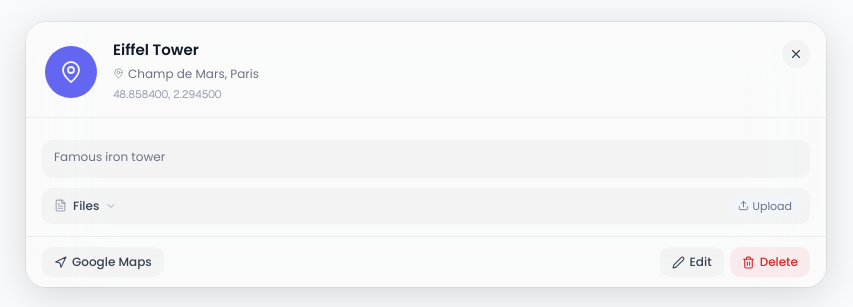
PlaceInspector › FE-PLANNER-INSPECTOR-019: double-clicking name enters edit mode
Double-click the text "Eiffel Tower" at [156, 50], box [113, 40, 199, 60]
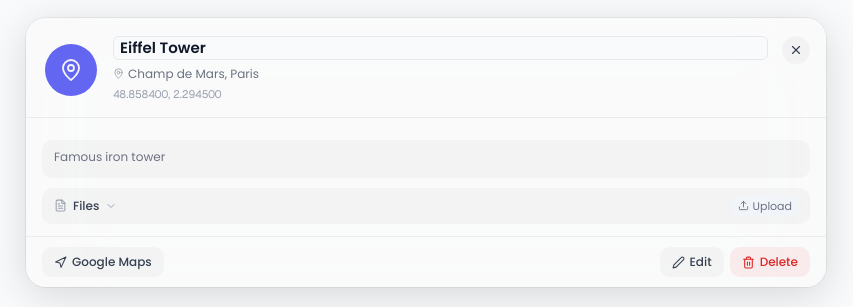
Check: the field showing "Eiffel Tower" is shown, box [113, 36, 768, 60]
